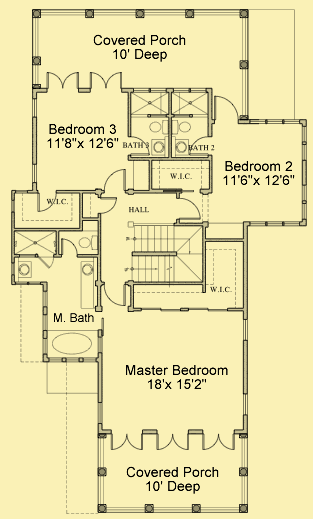bathroom has a shower with small and large sink: (126, 89, 173, 161), (170, 87, 215, 158)
master bathroom has a bathtub with small and large sink with shower and closets: (10, 191, 102, 362)
open area has staircase: (100, 191, 207, 309)
there is a bedroom: (31, 85, 132, 196)
